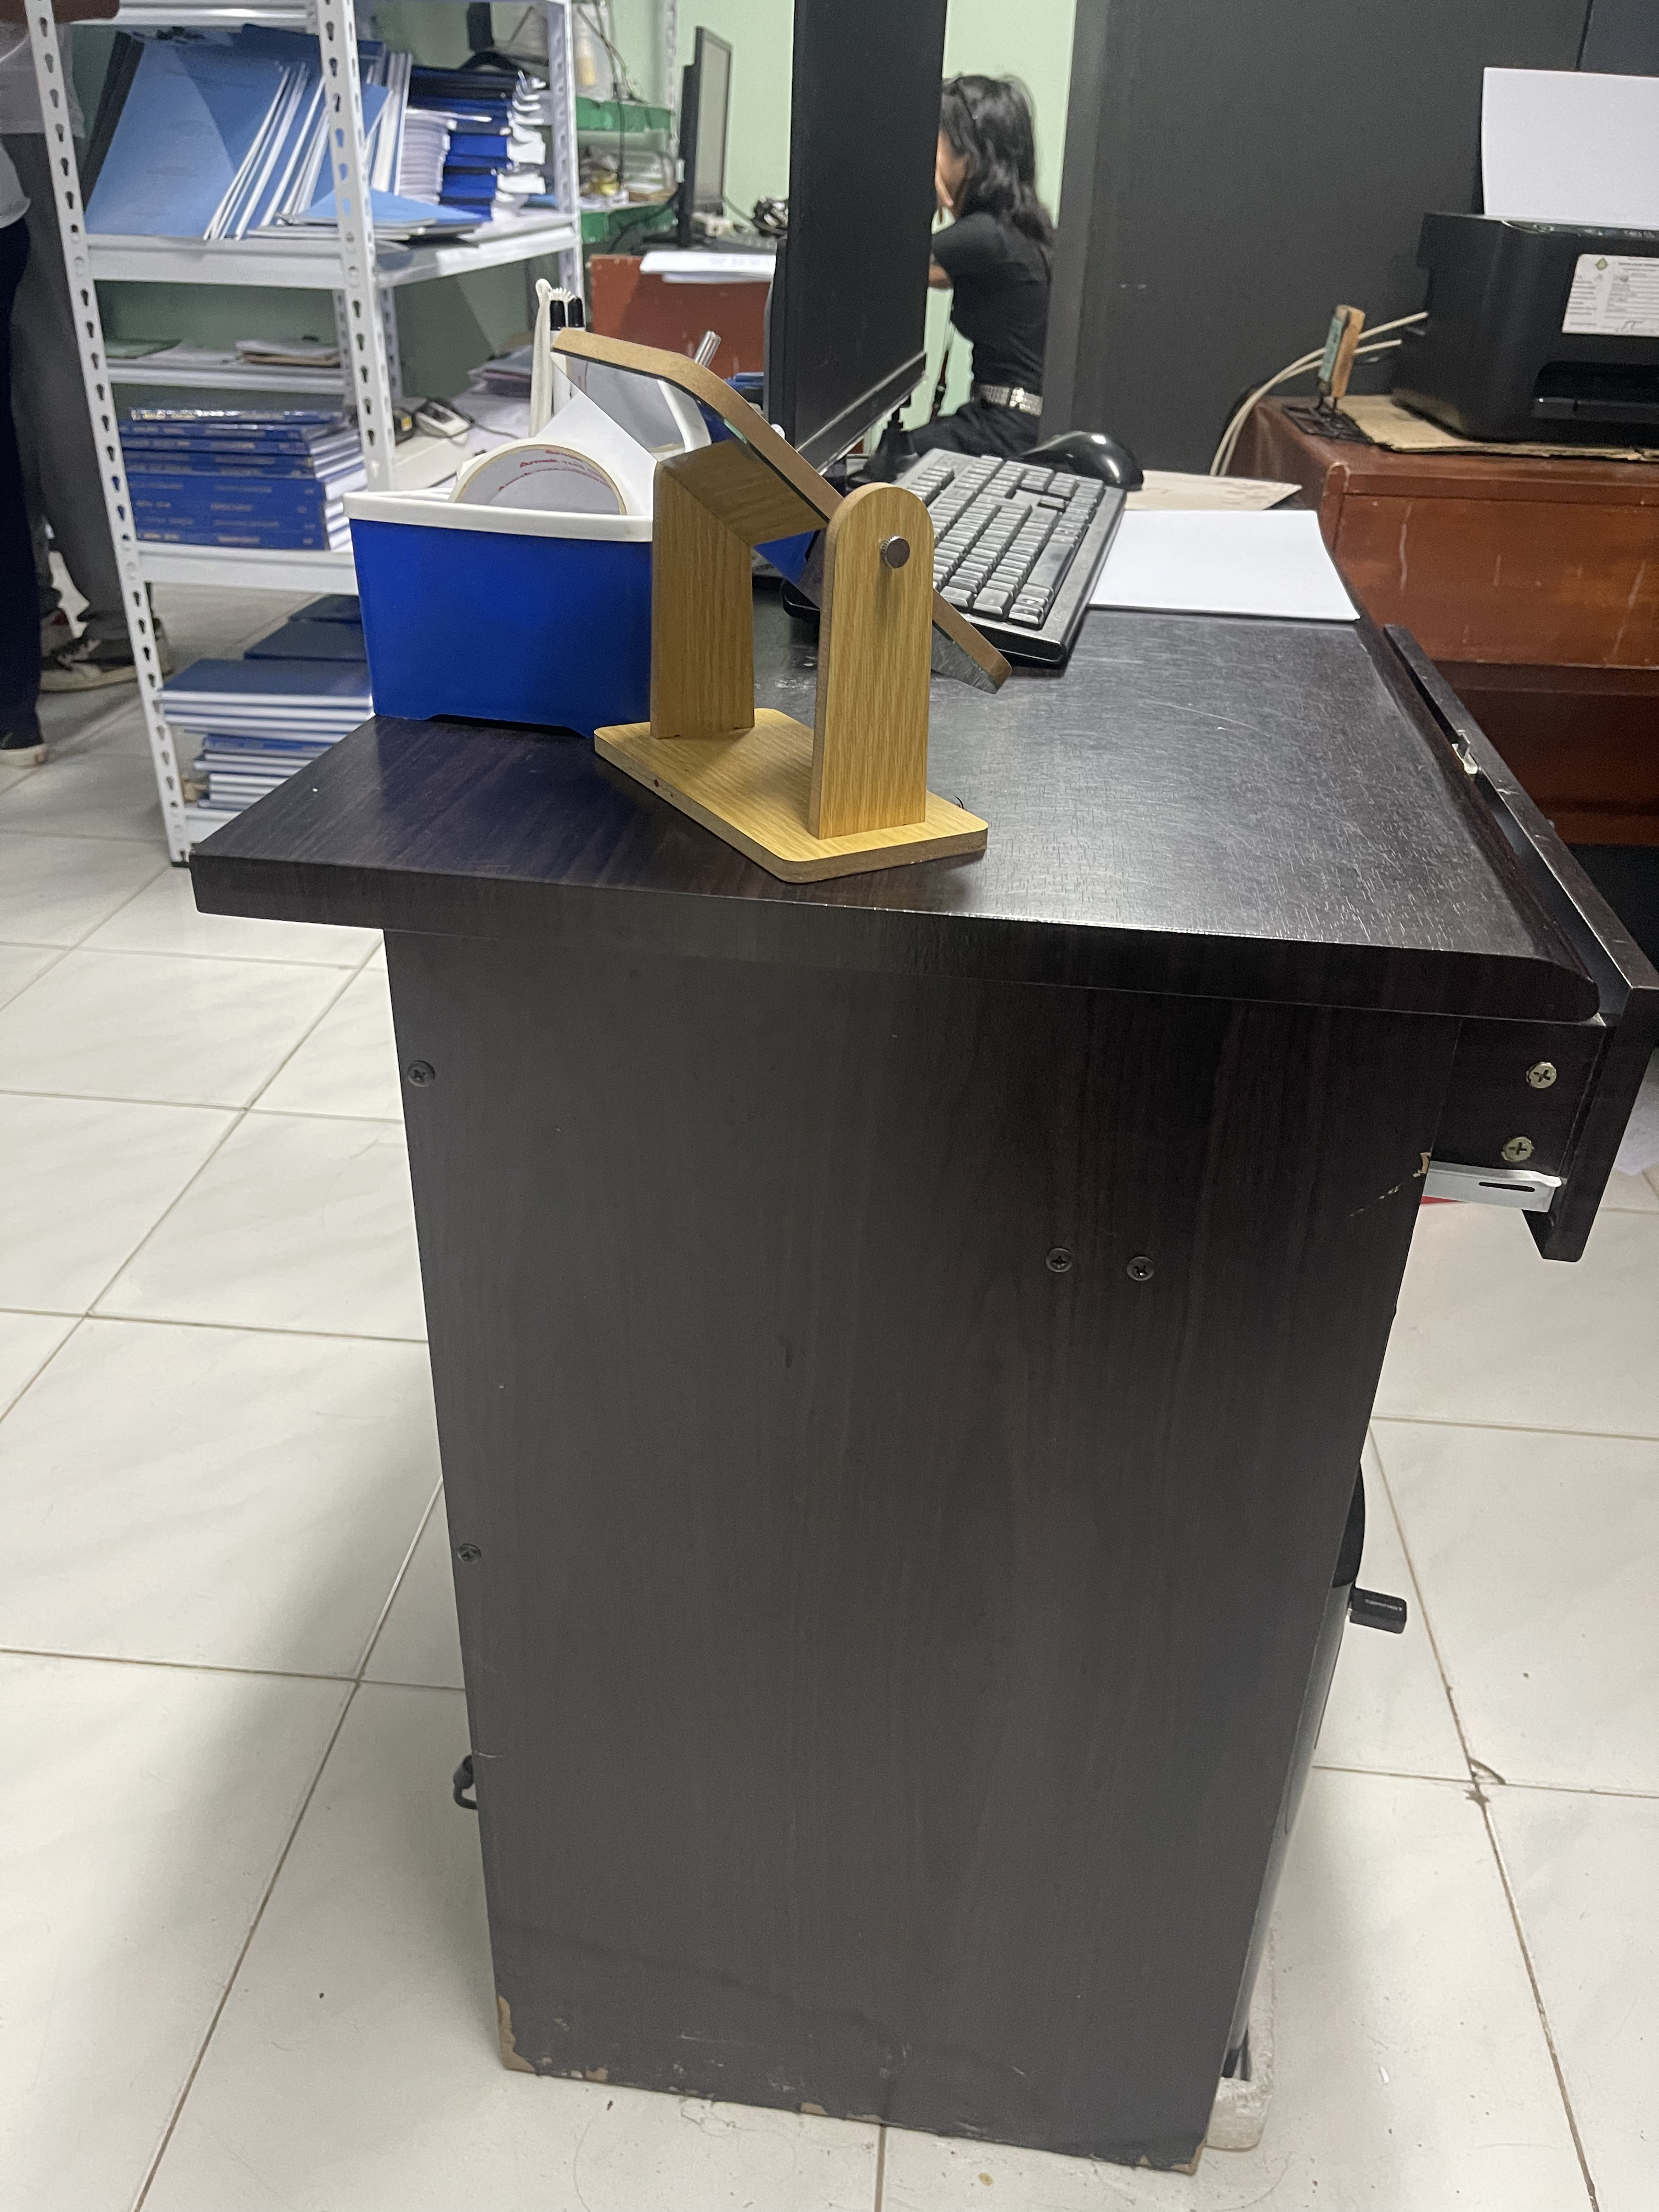table1: (174, 428, 1647, 2191)
